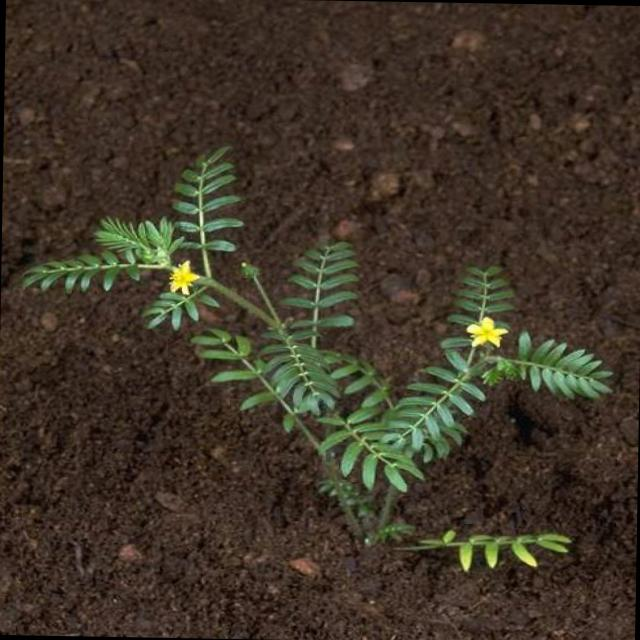Gokharu: (322, 218, 634, 640), (118, 205, 444, 497), (81, 184, 332, 368)
